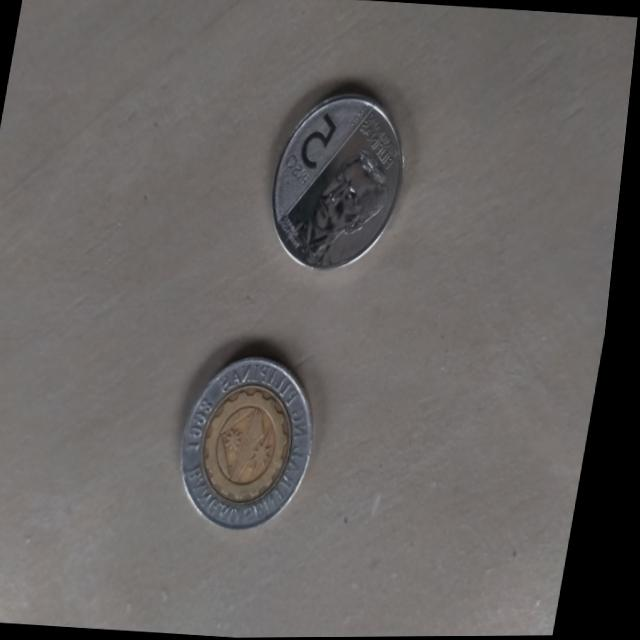10_Old_Back: (174, 353, 339, 539)
5_New_Front: (279, 103, 350, 190)
